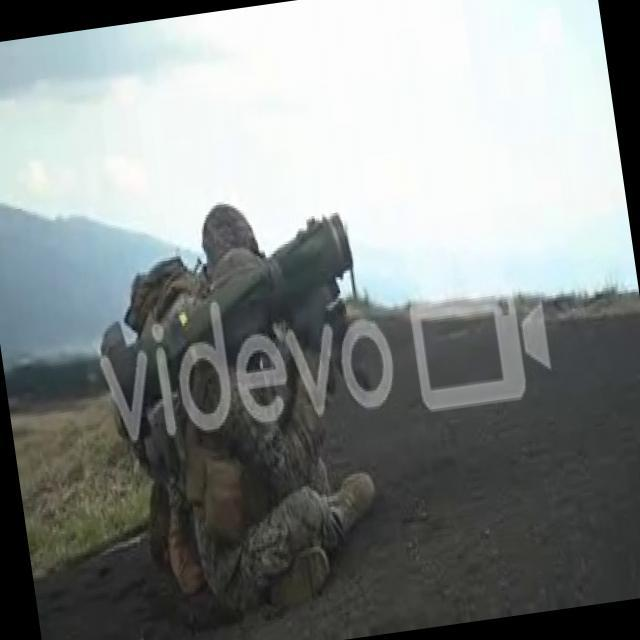rocket: (88, 209, 370, 448)
